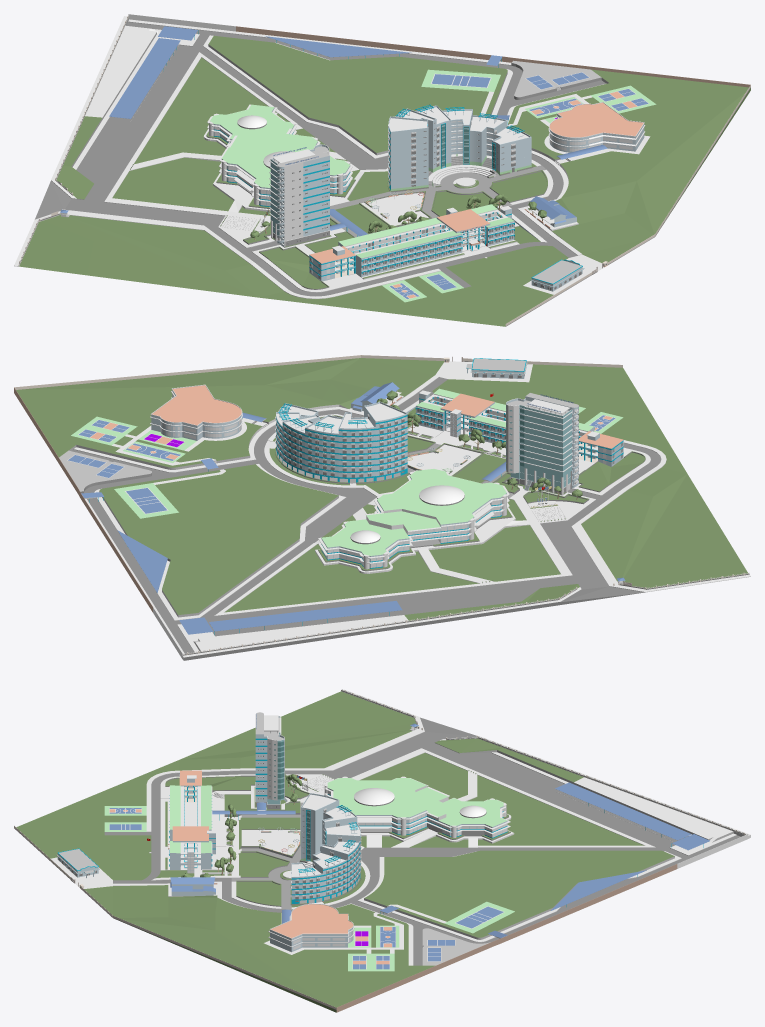
File: map.glb
The picture shows the model from 3 angles, top to bottom: view 1: azimuth 30°, elevation 25°; view 2: azimuth 150°, elevation 25°; view 3: azimuth 270°, elevation 25°; orthographic projection. The views are drawn at different scales.
Parts seen in each view (by area): view 1: map; view 2: map; view 3: map.
Boxes of the visible parts, x1=… form: map: x1=14, y1=14, x2=750, y2=326; map: x1=14, y1=355, x2=750, y2=660; map: x1=14, y1=689, x2=750, y2=1012.
Bounding box in the file's own units: 16.34 × 1.82 × 15.76.
